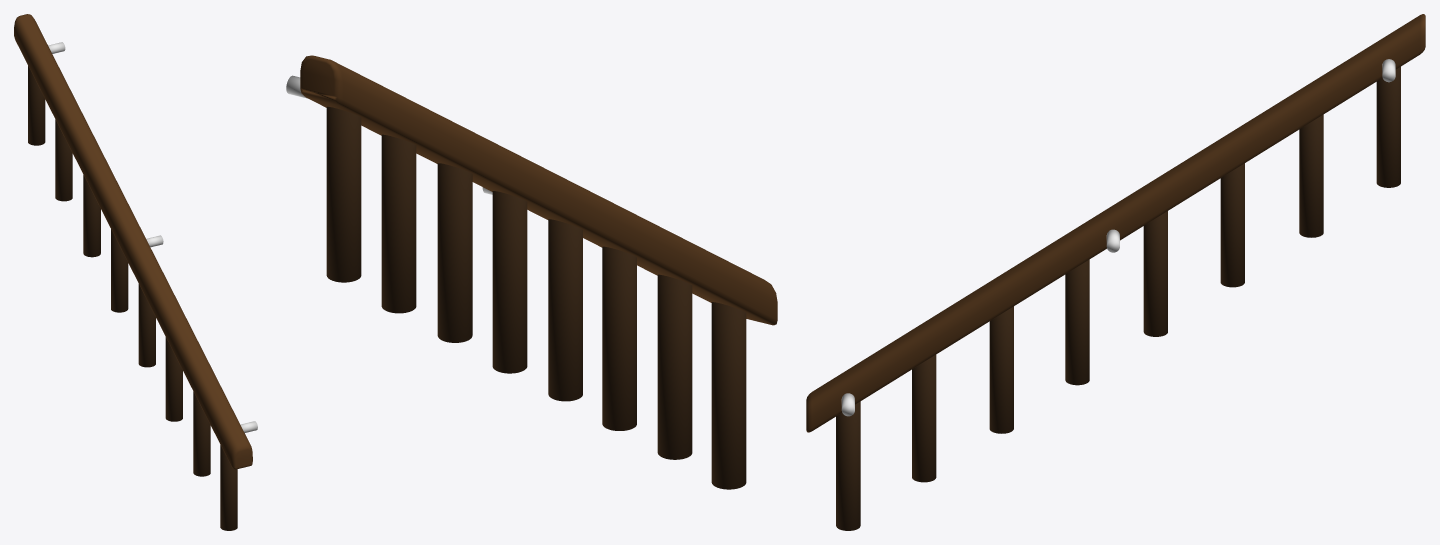
Rendered from Railing.glb.
The picture shows the model from 3 angles, left to right: view 1: azimuth 30°, elevation 25°; view 2: azimuth 150°, elevation 25°; view 3: azimuth 270°, elevation 25°; orthographic projection. The views are drawn at different scales.
Visible parts, largest first — view 1: railing, step_anchor, wall_anchor; view 2: step_anchor, railing; view 3: railing, step_anchor, wall_anchor.
Part boxes in pixels (x1,y1,x2,y2): railing: (14,14,252,469); step_anchor: (28,66,237,530); wall_anchor: (48,42,257,432); step_anchor: (326,106,746,489); railing: (300,55,777,325); railing: (806,14,1425,432); step_anchor: (836,66,1400,530); wall_anchor: (841,59,1395,416).
Bounding box in the file's own units: 2.17 × 20.14 × 22.22.
